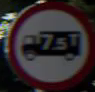Heavy Vehicles: (7, 5, 88, 82)
